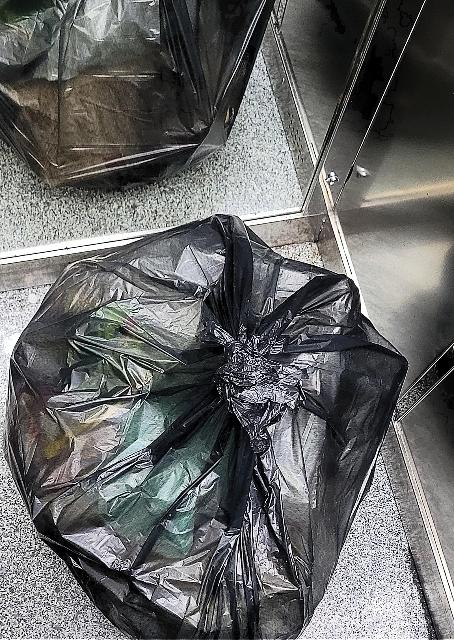Plastik: (6, 214, 412, 640)
